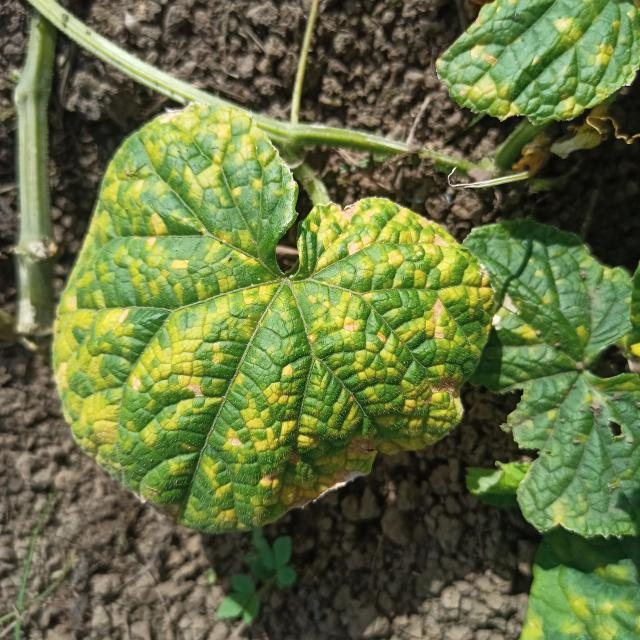disease_cucumber: (55, 106, 483, 518)
